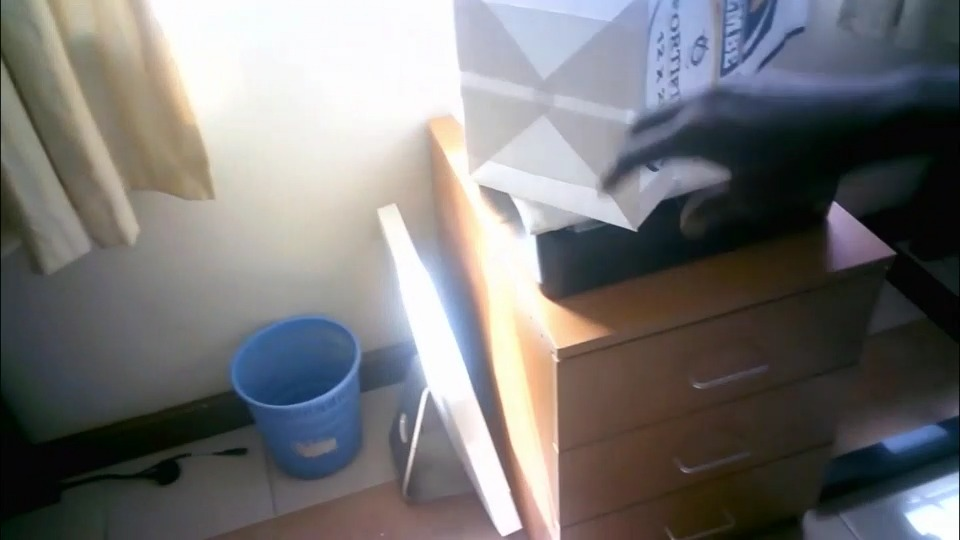wheat_flour_blue_label: (456, 0, 831, 227)
